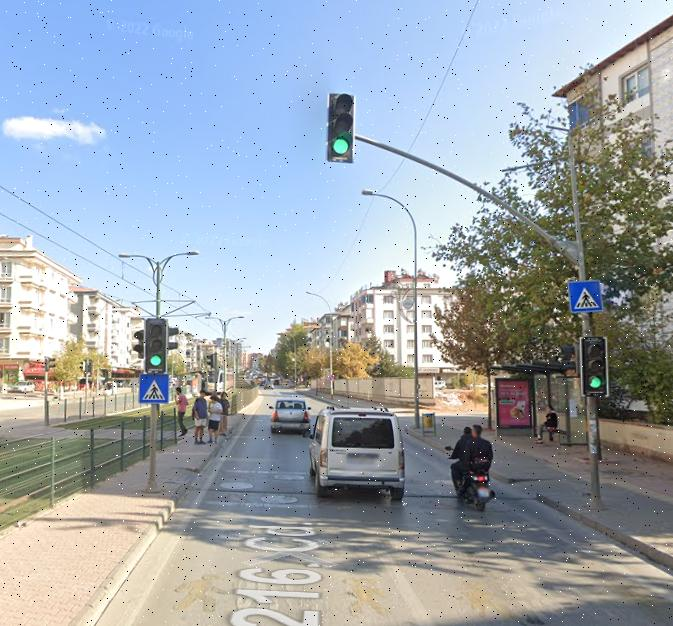greenlight: (330, 94, 353, 158), (582, 339, 606, 390), (146, 318, 165, 371)
